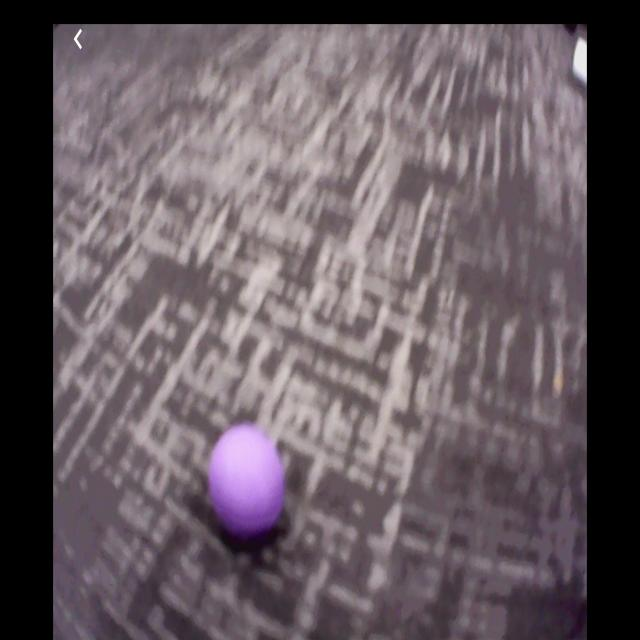ball: (211, 424, 284, 534)
